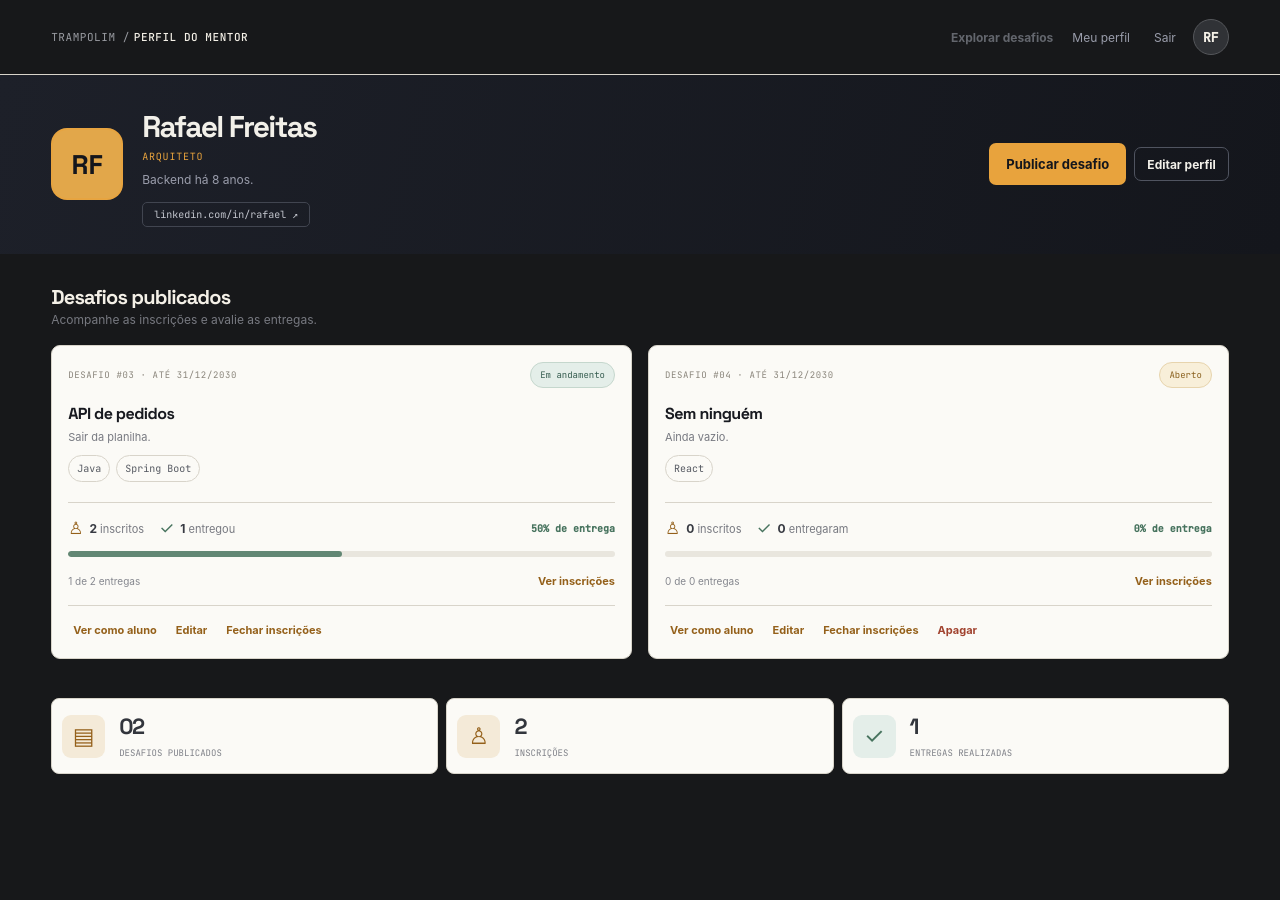
Test: Perfil do mentor › aprova e recusa inscrições que ainda não têm envio
The image size is (1280, 900).
Expected: the heading "API de pedidos" is shown, [68,403,174,424]
Click the button "Ver inscrições" below "50". click: (574, 581)
box: [533,569,615,593]
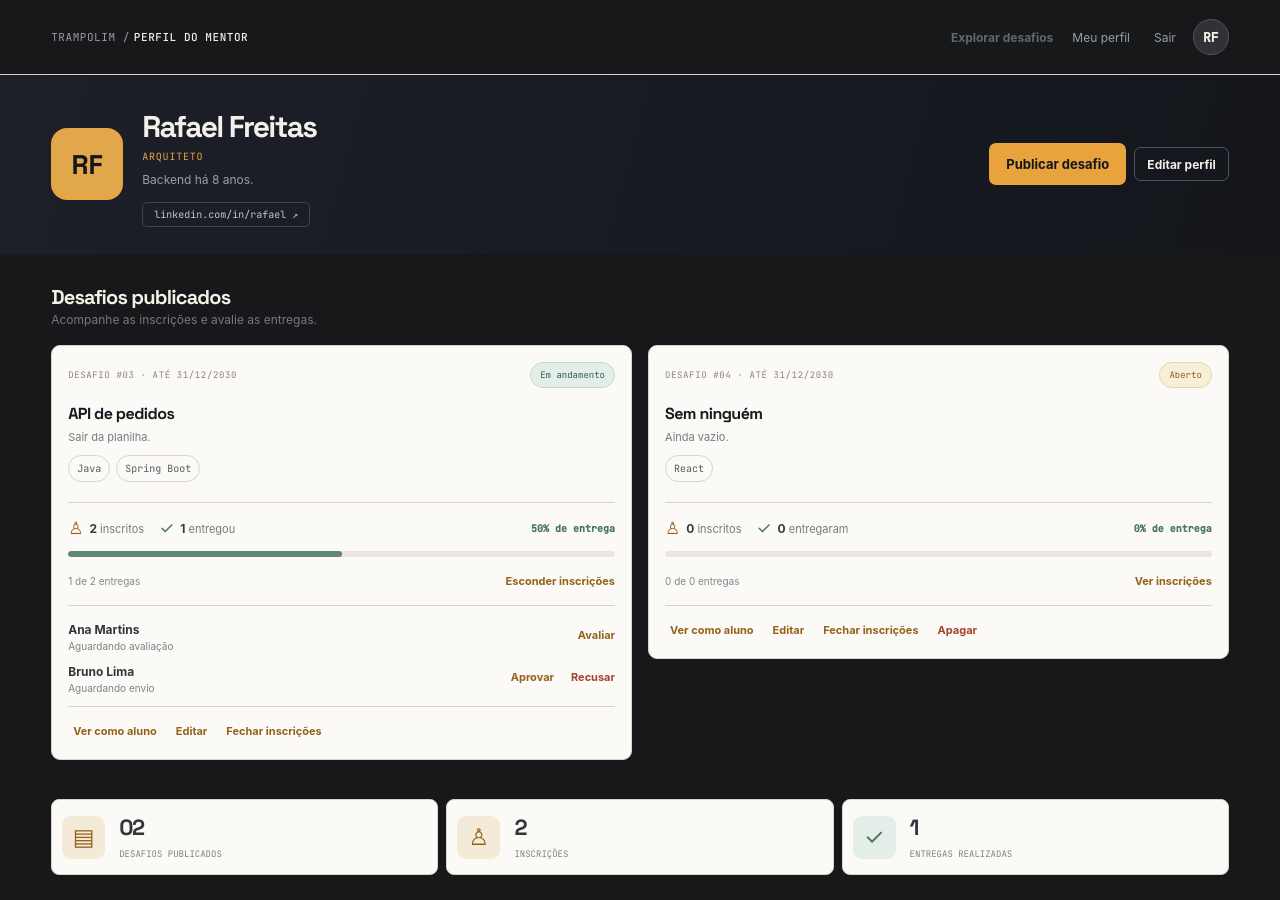
Result: the button "Bruno Lima" is shown at [68,664,134,679]
Click the button with aria-label "Recusar inscrição de Bruno Lima". click: (590, 677)
box: [566,665,615,689]
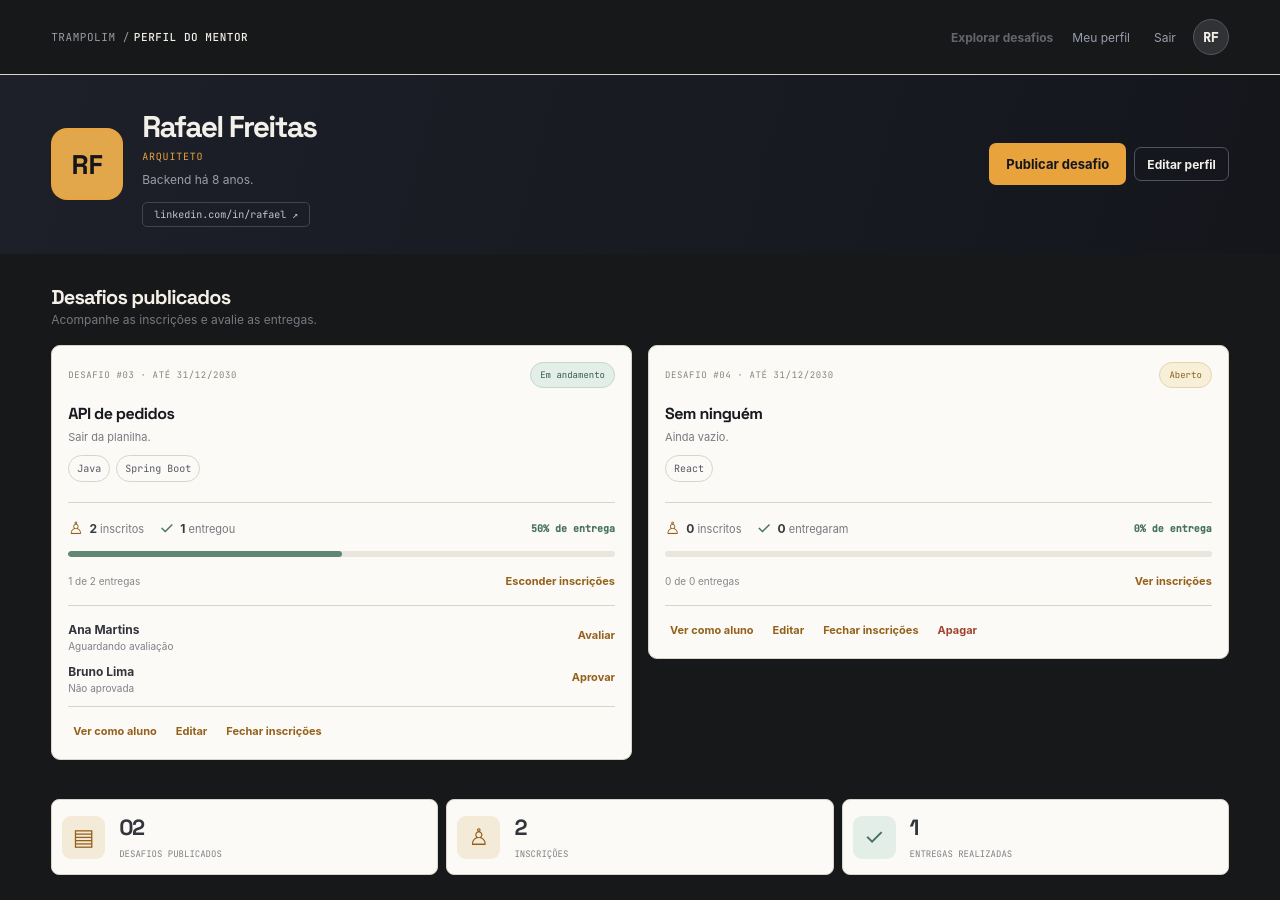
Result: the text "Não aprovada" is shown at [68,682,134,694]
Click the button with aria-label "Aprovar inscrição de Bruno Lima". click: (591, 677)
box: [567,665,615,689]
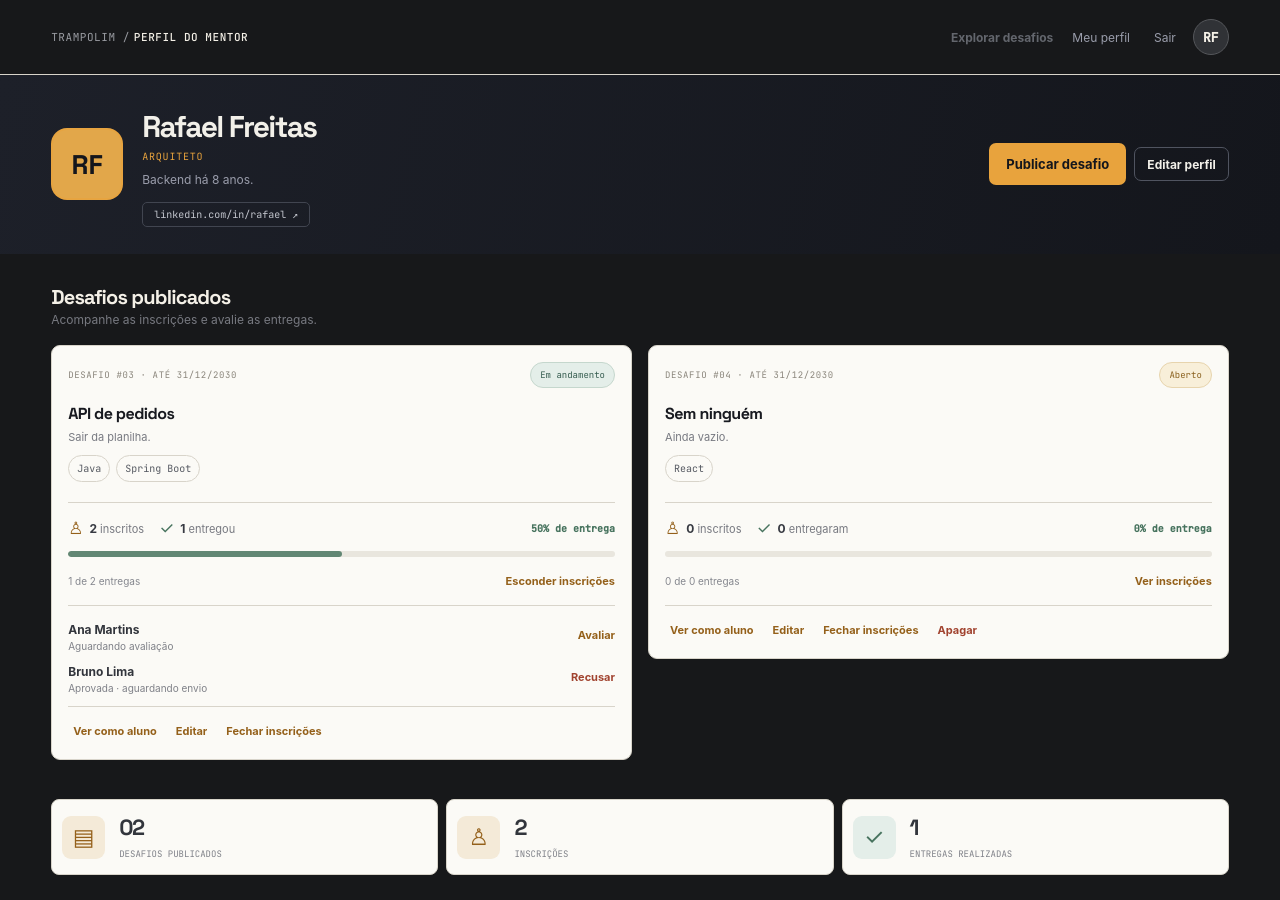
Result: the text "Aprovada · aguardando envio" is shown at [68,682,207,694]
